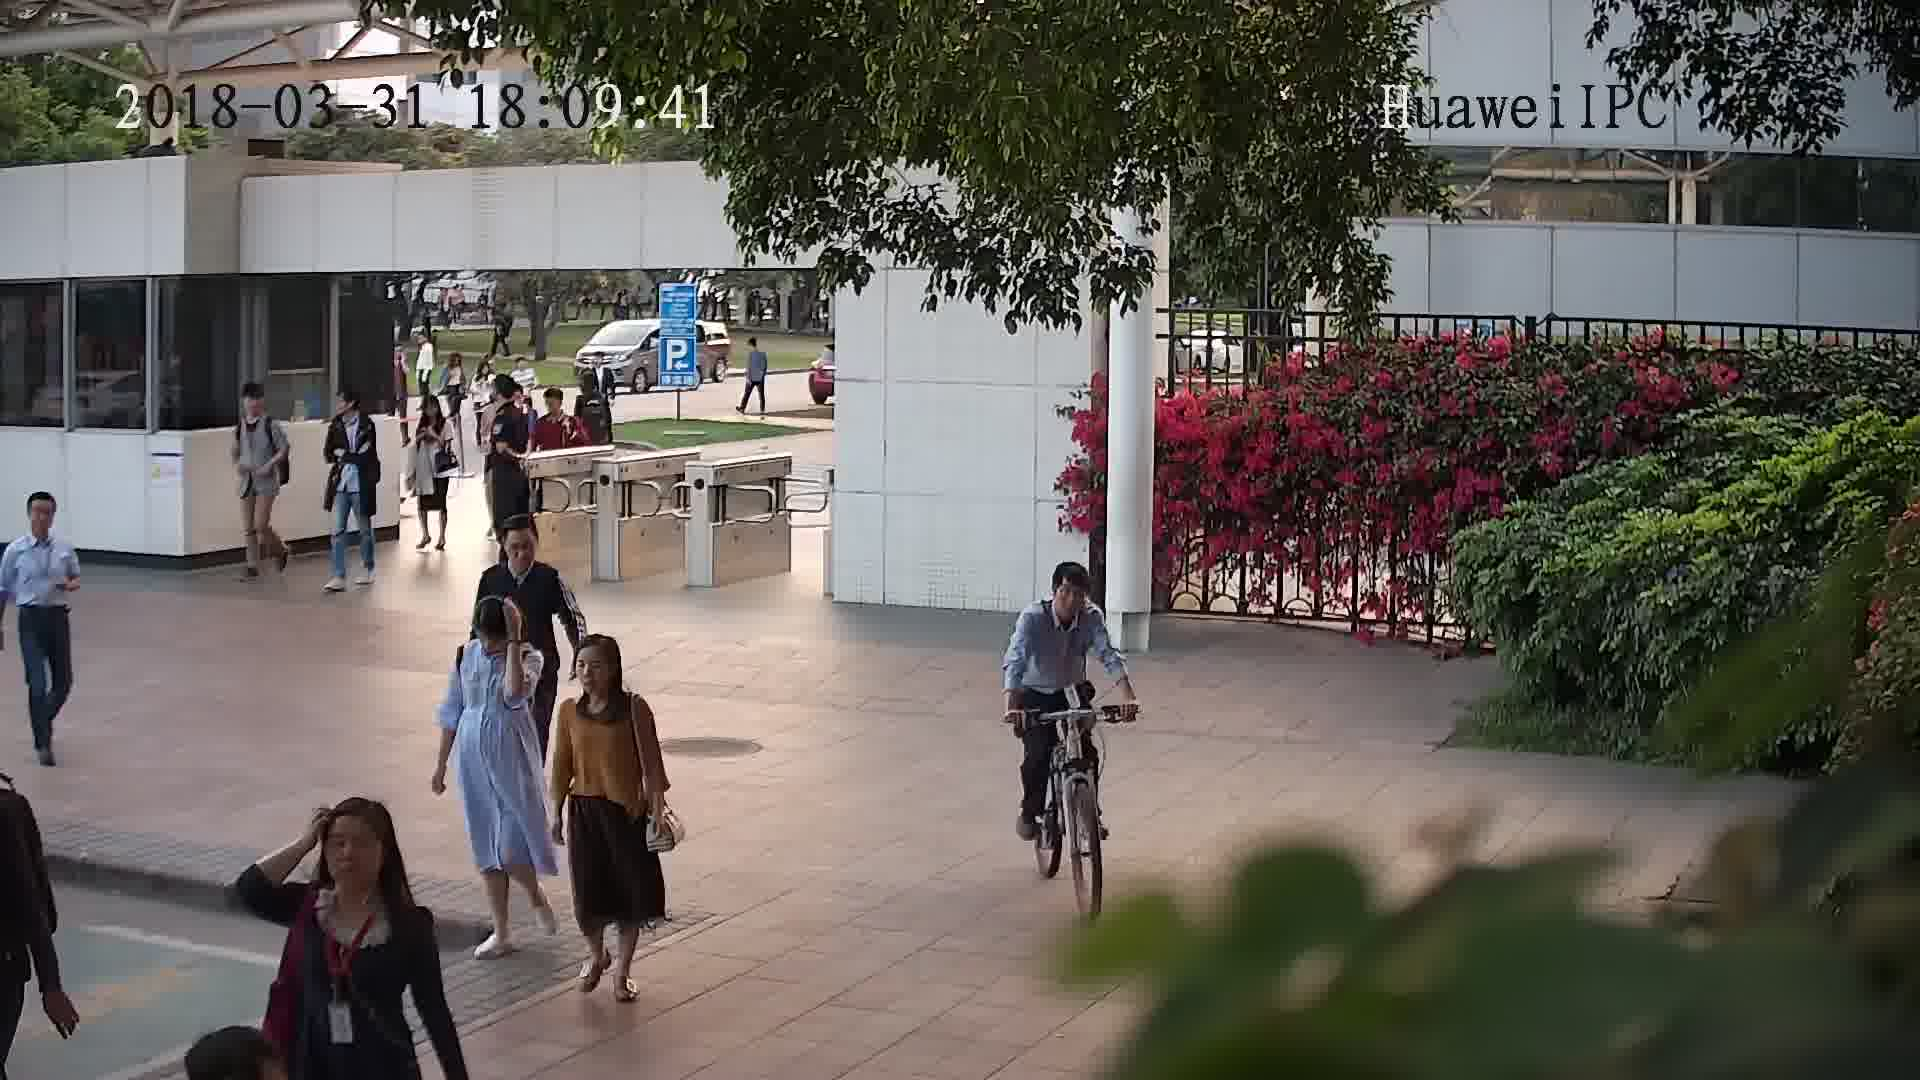face: (310, 812, 389, 891), (571, 647, 616, 693), (1052, 575, 1094, 617), (502, 530, 543, 571)
person: (289, 791, 430, 945), (554, 632, 647, 727), (454, 592, 539, 678), (1016, 559, 1101, 634), (483, 516, 565, 591), (8, 484, 82, 565), (231, 377, 281, 438), (326, 380, 371, 438), (411, 393, 454, 444), (533, 384, 579, 430), (491, 374, 533, 423), (574, 370, 608, 404), (469, 358, 499, 387), (509, 359, 541, 380), (413, 330, 436, 355)
